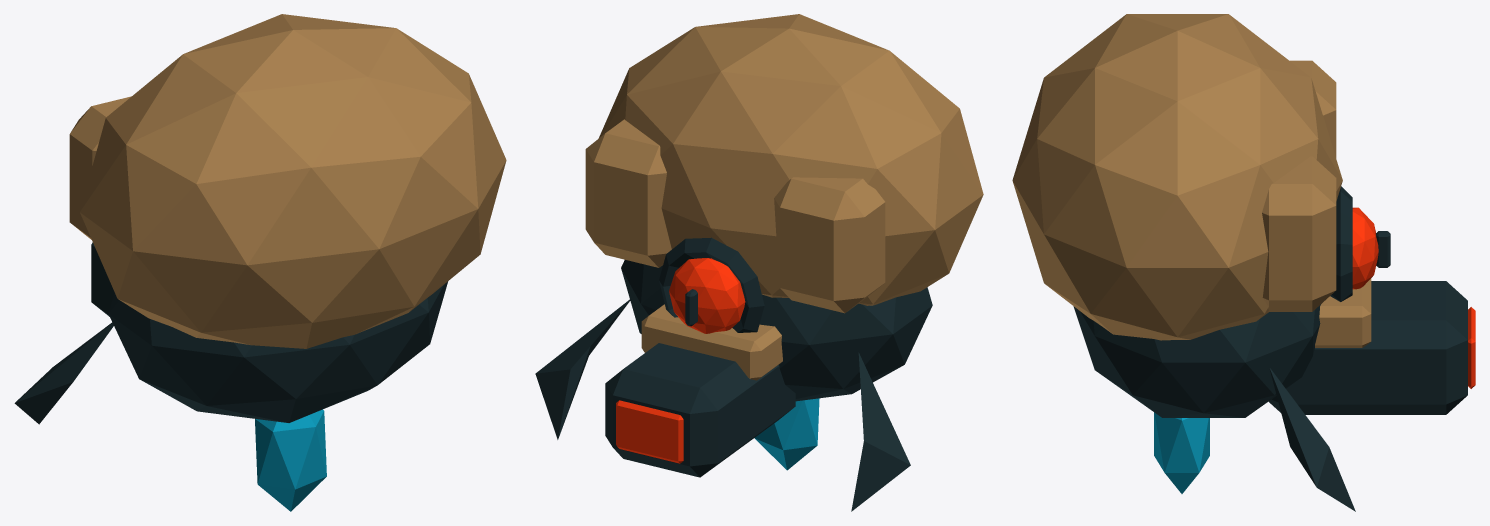
The model's file is ArmoredEnemy.obj.
The picture shows the model from 3 angles, left to right: view 1: azimuth 30°, elevation 25°; view 2: azimuth 150°, elevation 25°; view 3: azimuth 270°, elevation 25°; orthographic projection. The views are drawn at different scales.
Visible parts, largest first — view 1: ArmoredEnemy; view 2: ArmoredEnemy; view 3: ArmoredEnemy.
Boxes of the visible parts, x1,y1,x2,y2 form: ArmoredEnemy: (14, 14, 506, 511); ArmoredEnemy: (535, 14, 983, 511); ArmoredEnemy: (1012, 14, 1475, 511).
Size of the model in its own units: 1.61 by 1.8 by 1.63.
4 materials, 4 textured.
